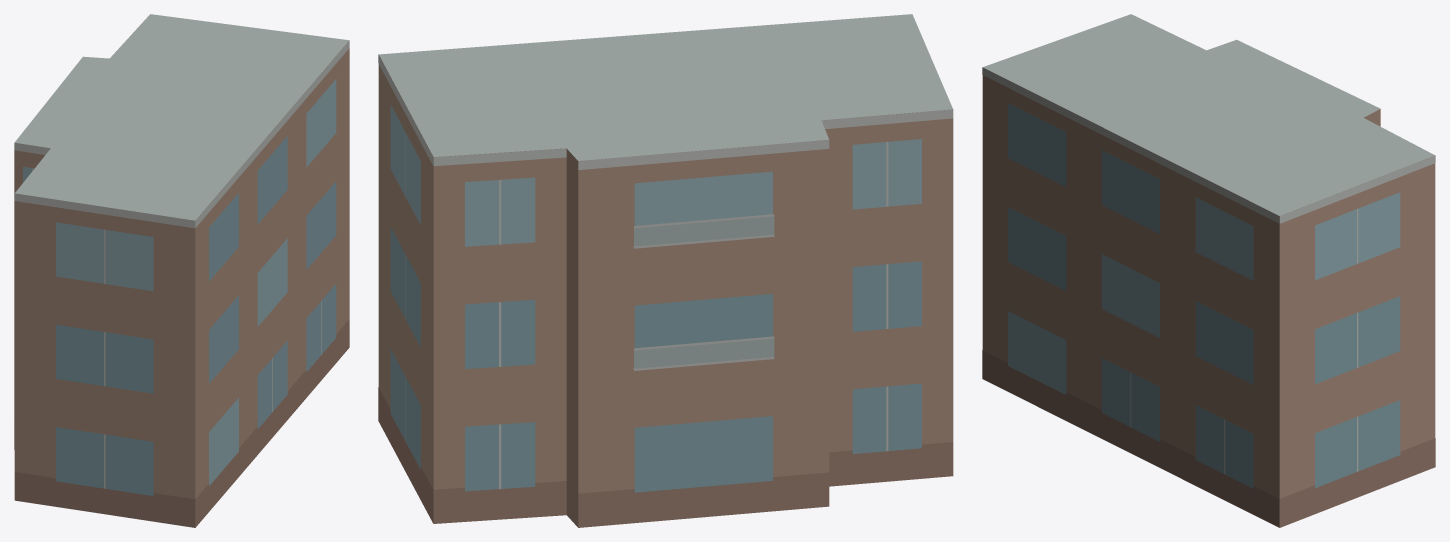
File: survey-upis-32581720.glb
The picture shows the model from 3 angles, left to right: view 1: azimuth 30°, elevation 25°; view 2: azimuth 150°, elevation 25°; view 3: azimuth 270°, elevation 25°; orthographic projection. The views are drawn at different scales.
Visible parts, largest first — view 1: survey-upis-32581720.tmp; view 2: survey-upis-32581720.tmp; view 3: survey-upis-32581720.tmp.
Boxes of the visible parts, left/top/right/bottom form: survey-upis-32581720.tmp: left=14, top=14, right=349, bottom=527; survey-upis-32581720.tmp: left=378, top=14, right=953, bottom=527; survey-upis-32581720.tmp: left=982, top=14, right=1435, bottom=527.
Size of the model in its own units: 13.63 by 9.8 by 12.91.
